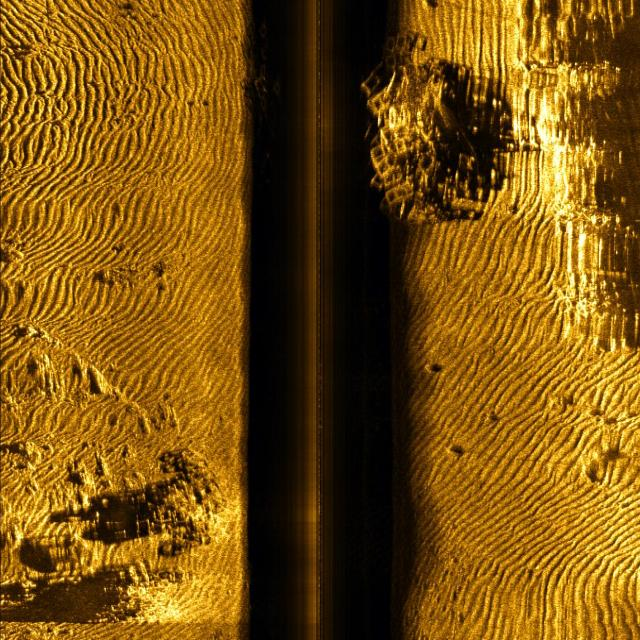artificial reef: (337, 20, 513, 222), (248, 15, 286, 129)
